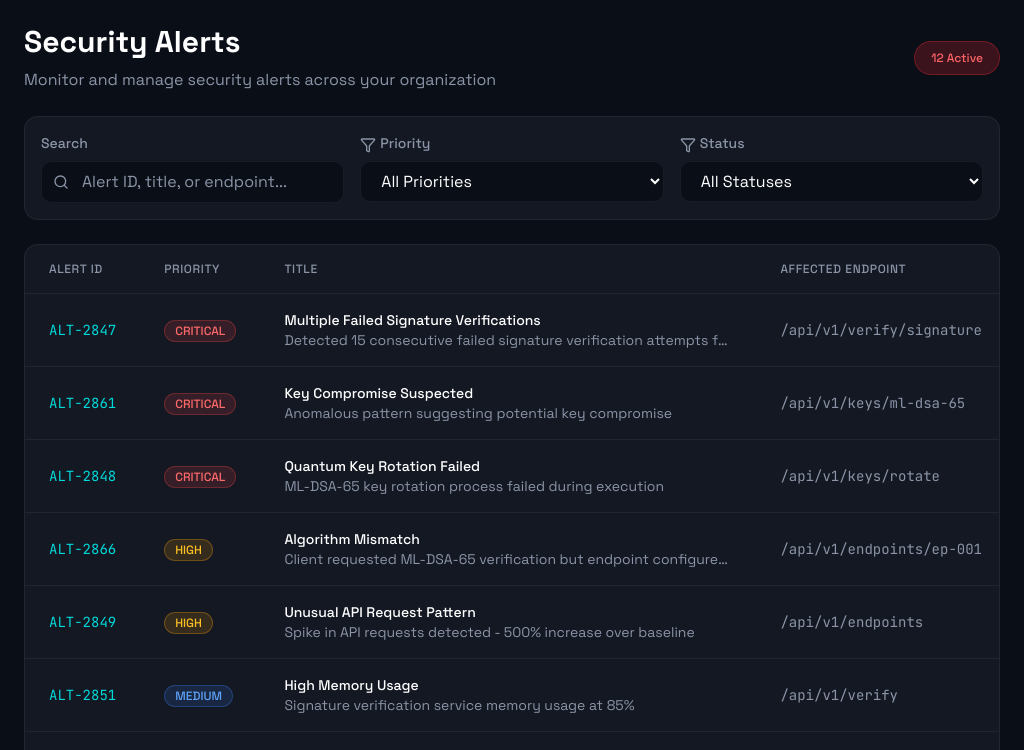
Test: AlertsSection › should filter alerts by priority
expect the text "ALT-2847" is shown: met, box [49,321,116,339]
Select "Critical" in the dropdown labelled "Priority" at (512, 182), box [360,161,664,202]
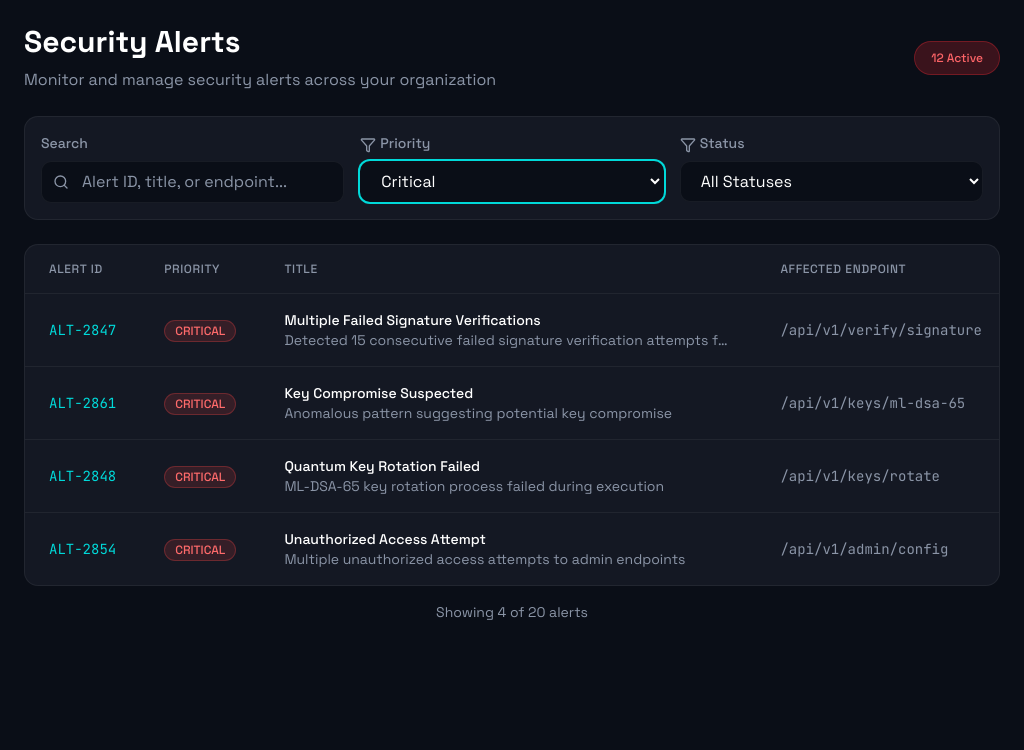
expect the text "ALT-2849" is gone: met
expect the text "ALT-2851" is gone: met
expect the text "ALT-2866" is gone: met
